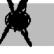not correct: (0, 0, 38, 48)
